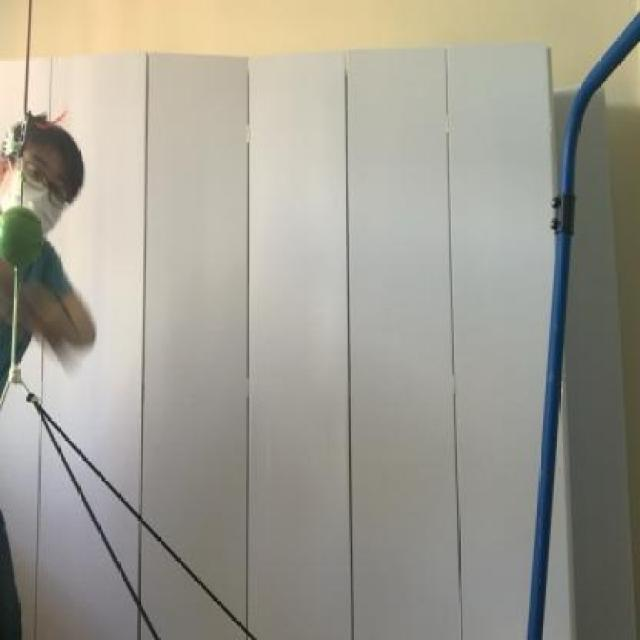baseball: (0, 204, 48, 270)
